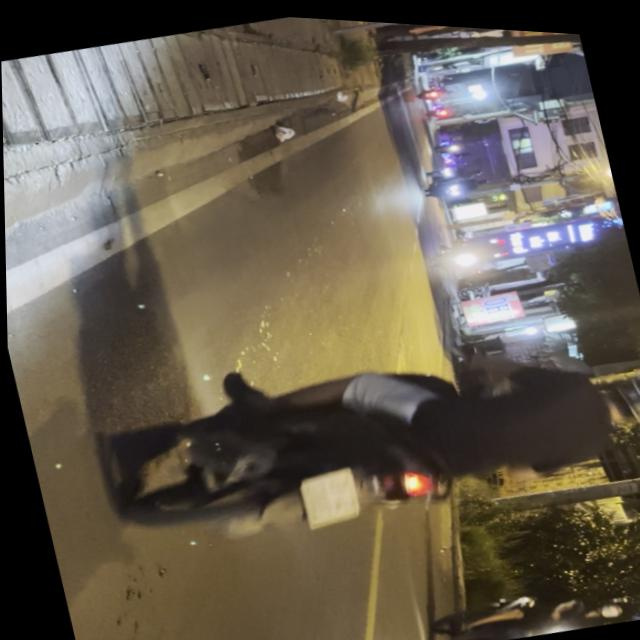helmet: (595, 359, 640, 429), (585, 592, 622, 618)
licenseplate: (85, 283, 640, 588), (413, 561, 626, 640)
nohelmet: (296, 461, 361, 528)
